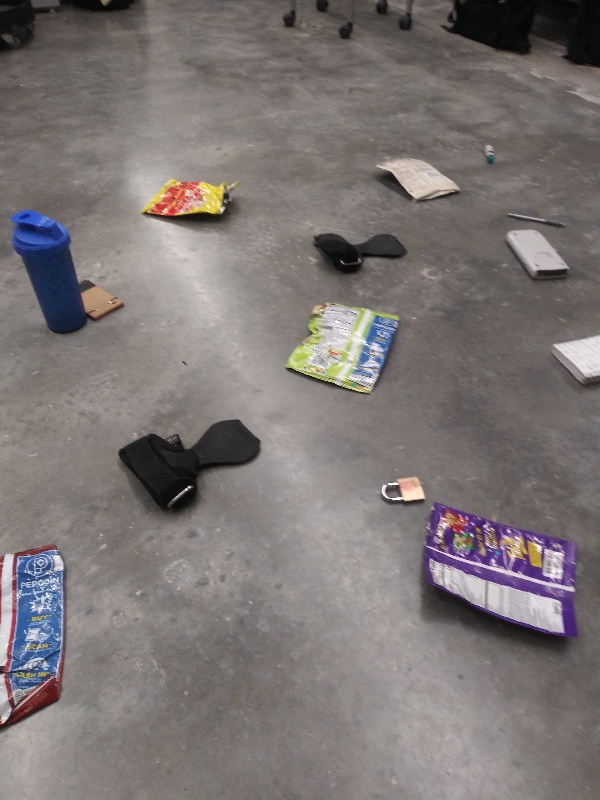bag: (415, 497, 582, 644), (1, 541, 71, 736), (284, 298, 408, 394), (139, 174, 243, 225), (372, 154, 468, 205)
